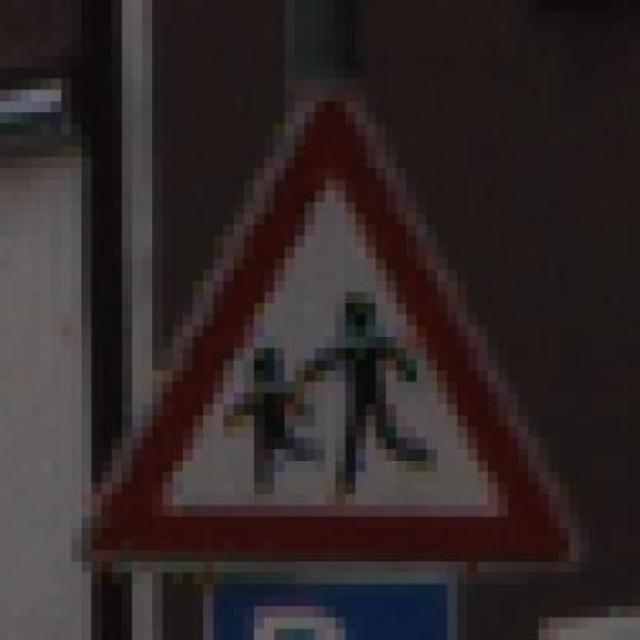Beware of children: (69, 53, 588, 593)
